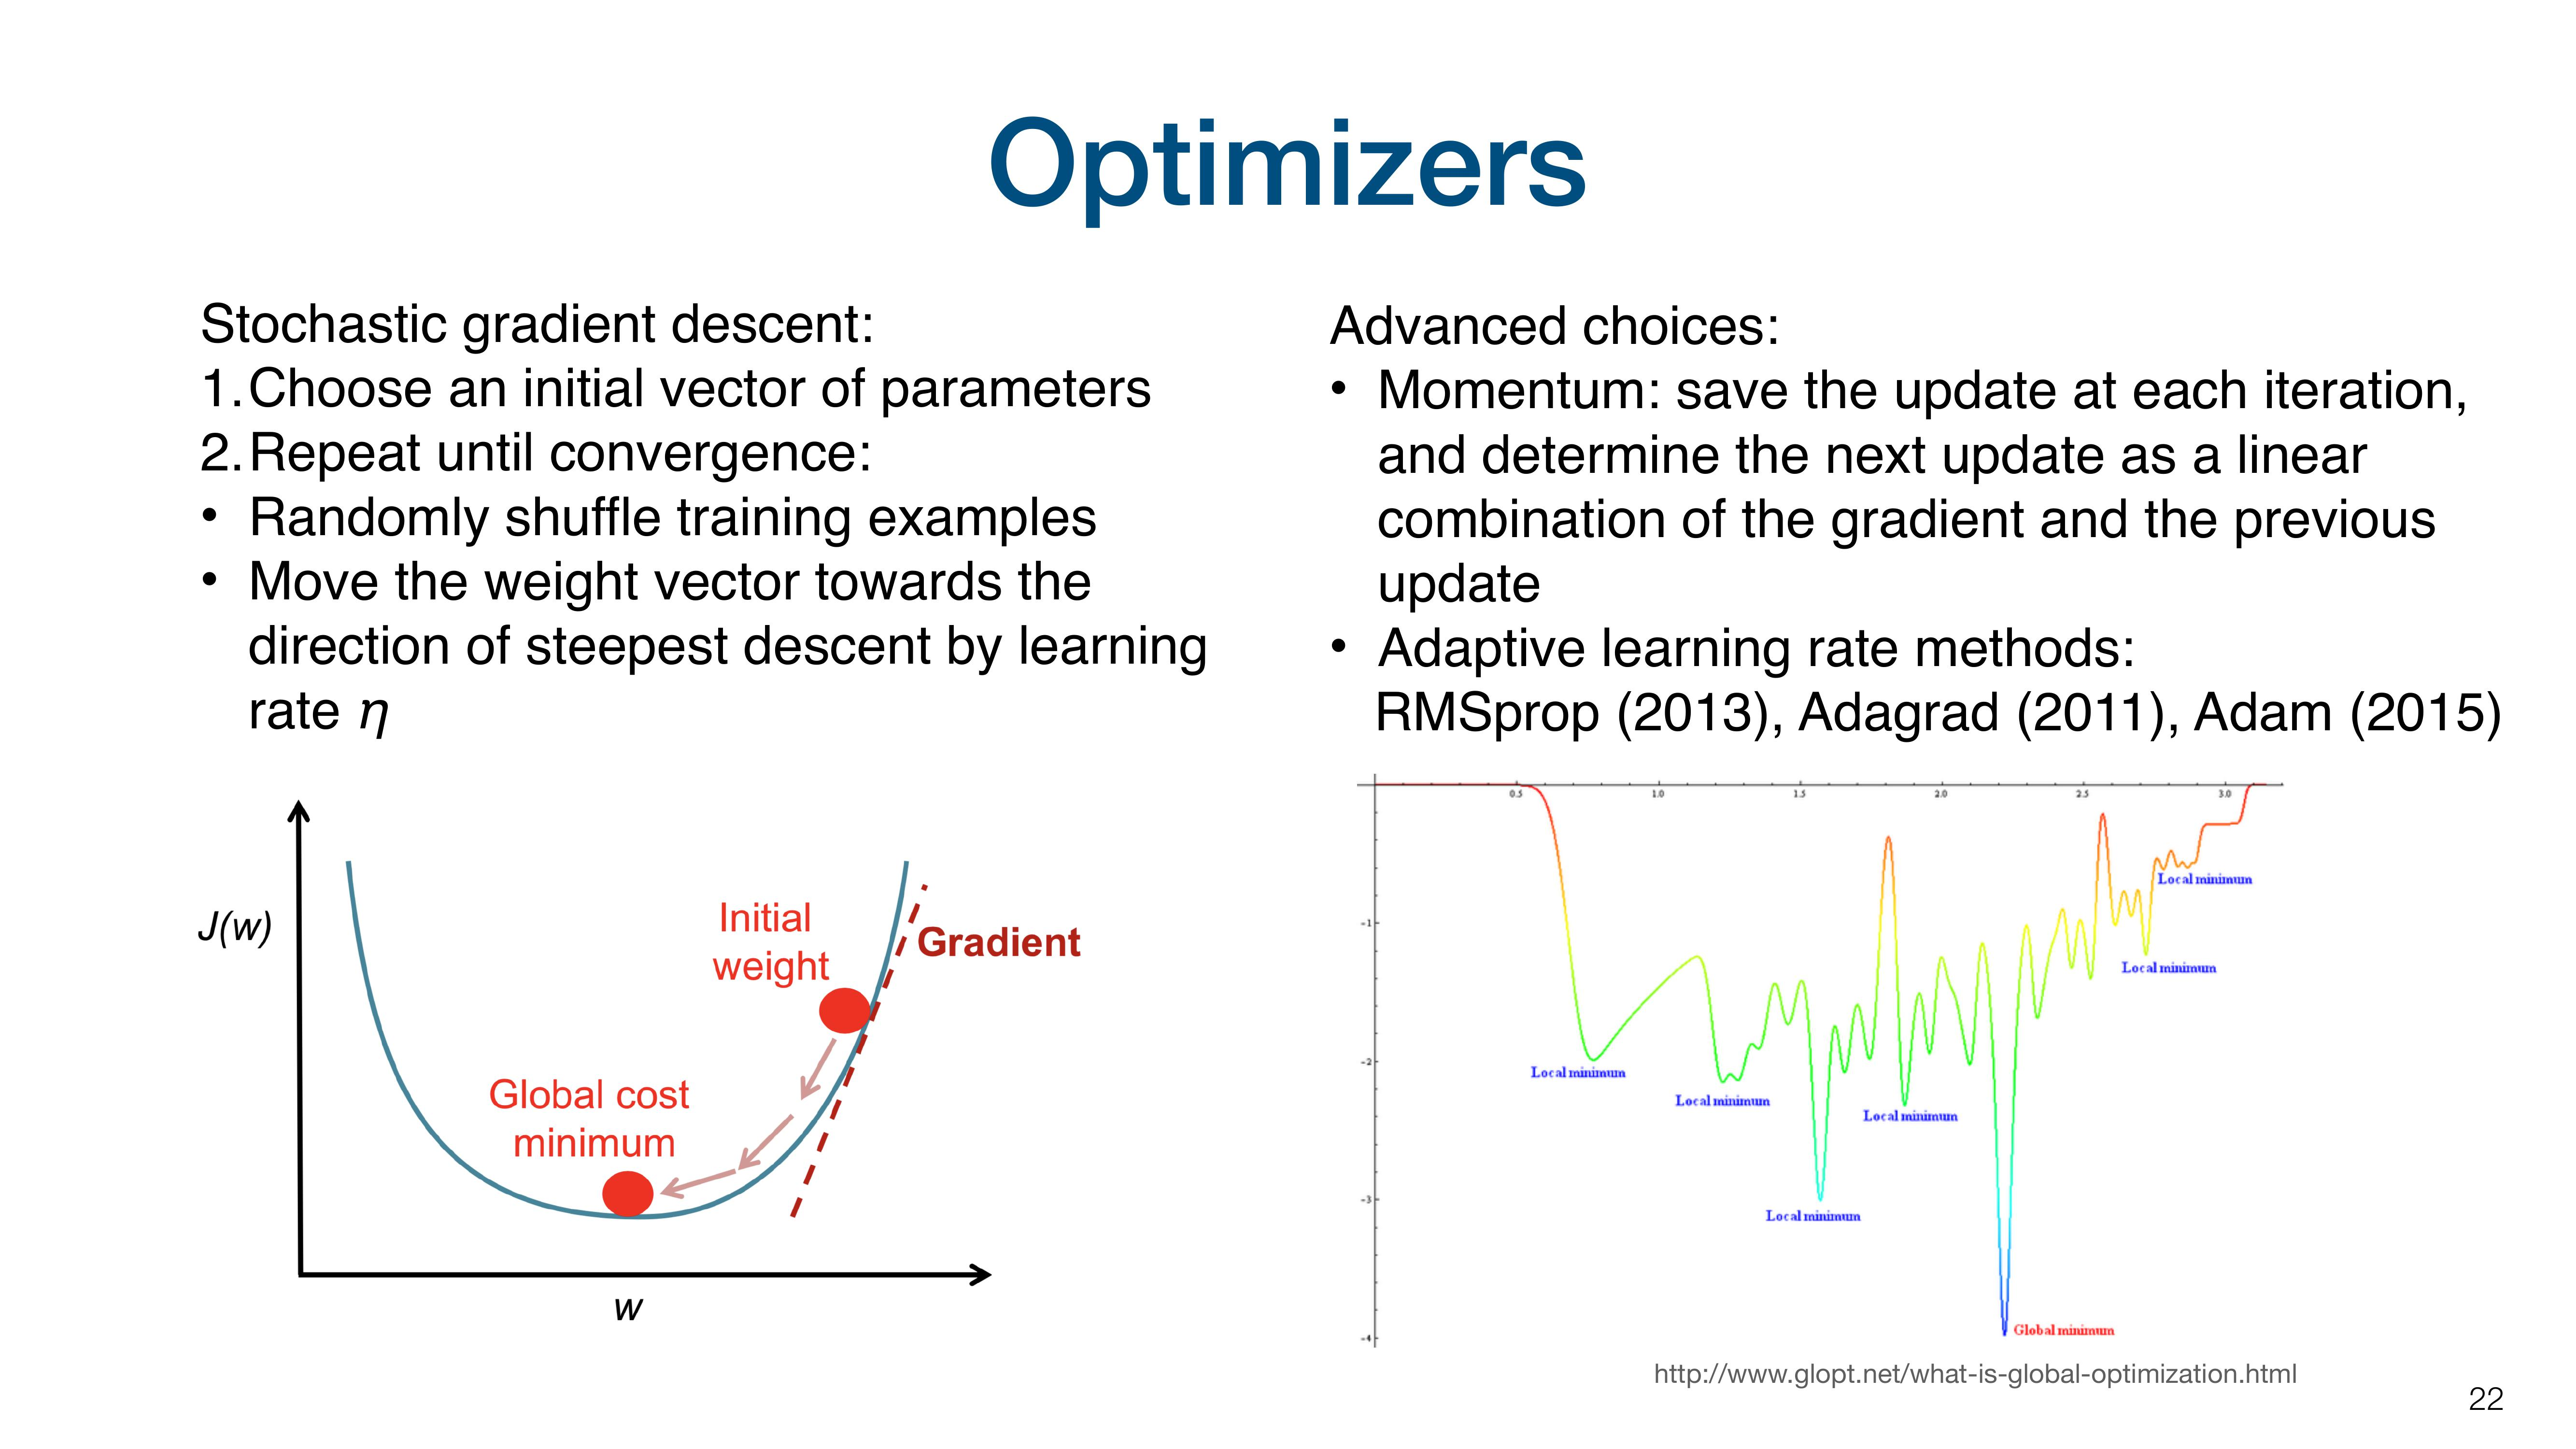Title: (932, 99, 1633, 253)
